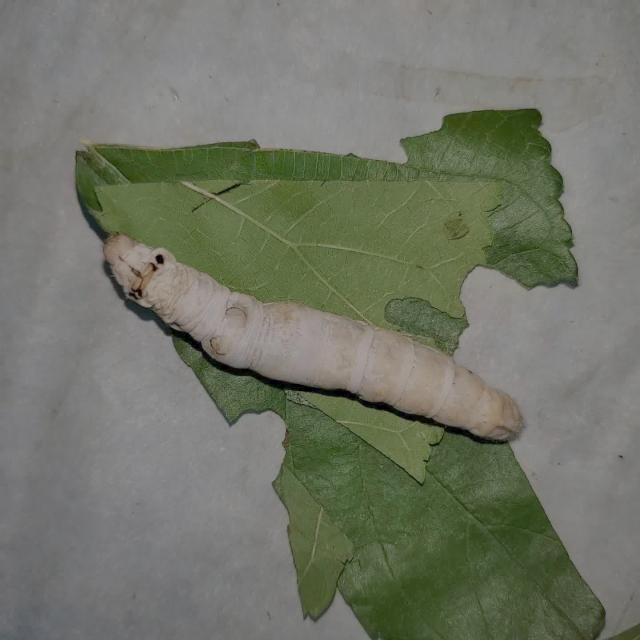Grasserie: (95, 223, 532, 458)
